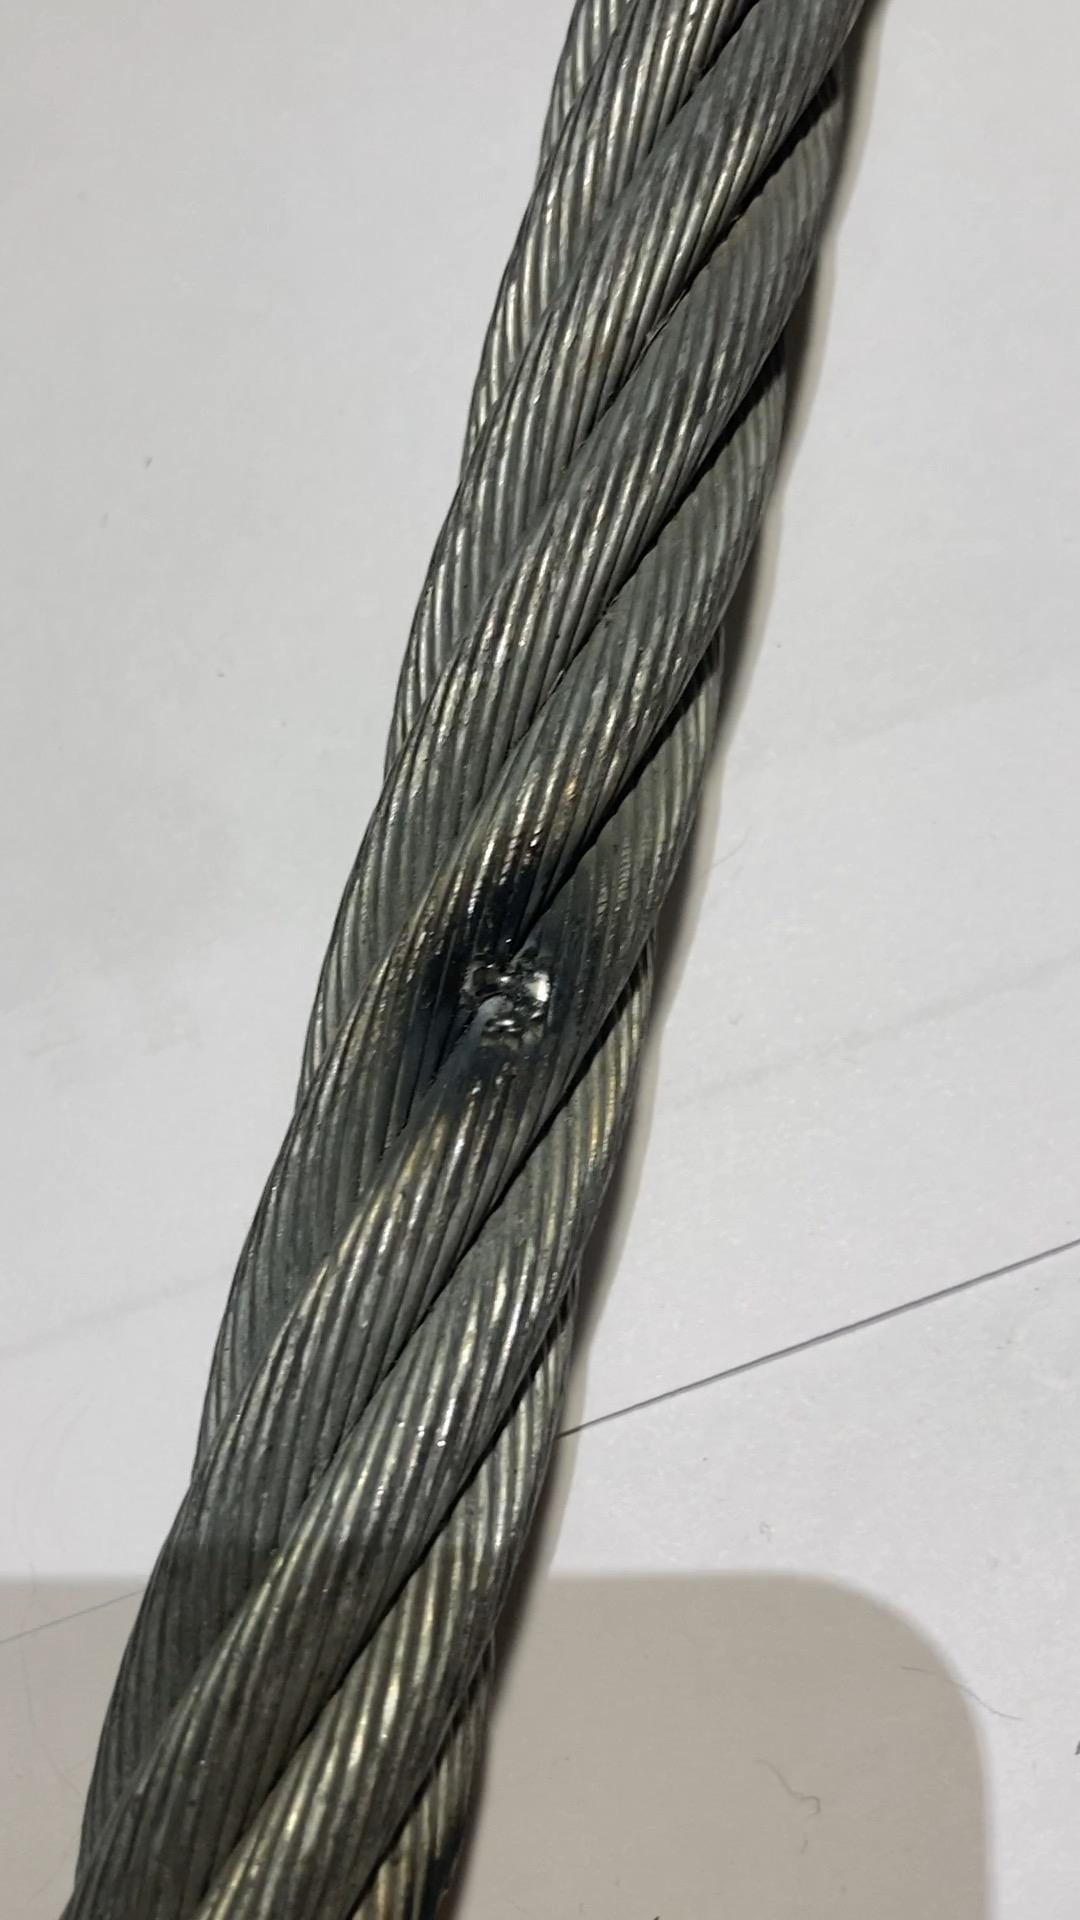thunderbolt: (407, 890, 591, 1075)
